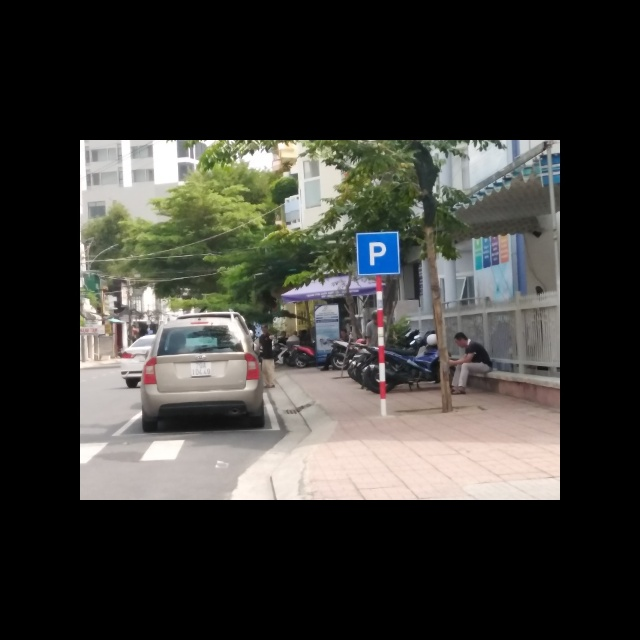Nơi đỗ xe: (356, 232, 402, 277)
